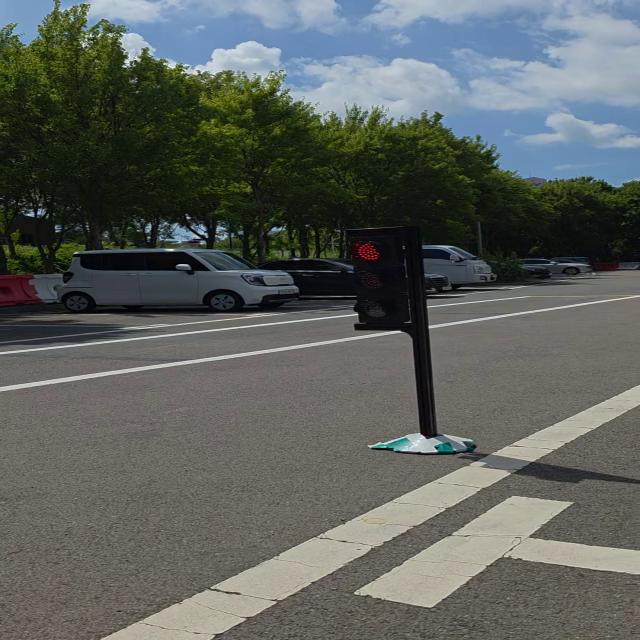red: (336, 225, 426, 338)
